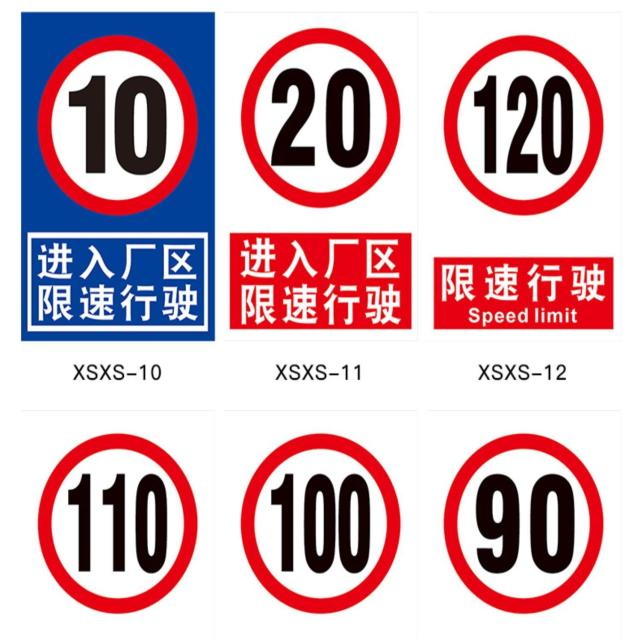speed limit 10: (37, 35, 199, 216)
speed limit 100: (238, 431, 403, 615)
speed limit 110: (38, 432, 198, 616)
speed limit 120: (440, 34, 605, 218)
speed limit 20: (239, 26, 401, 210)
speed limit 90: (441, 435, 605, 616)
